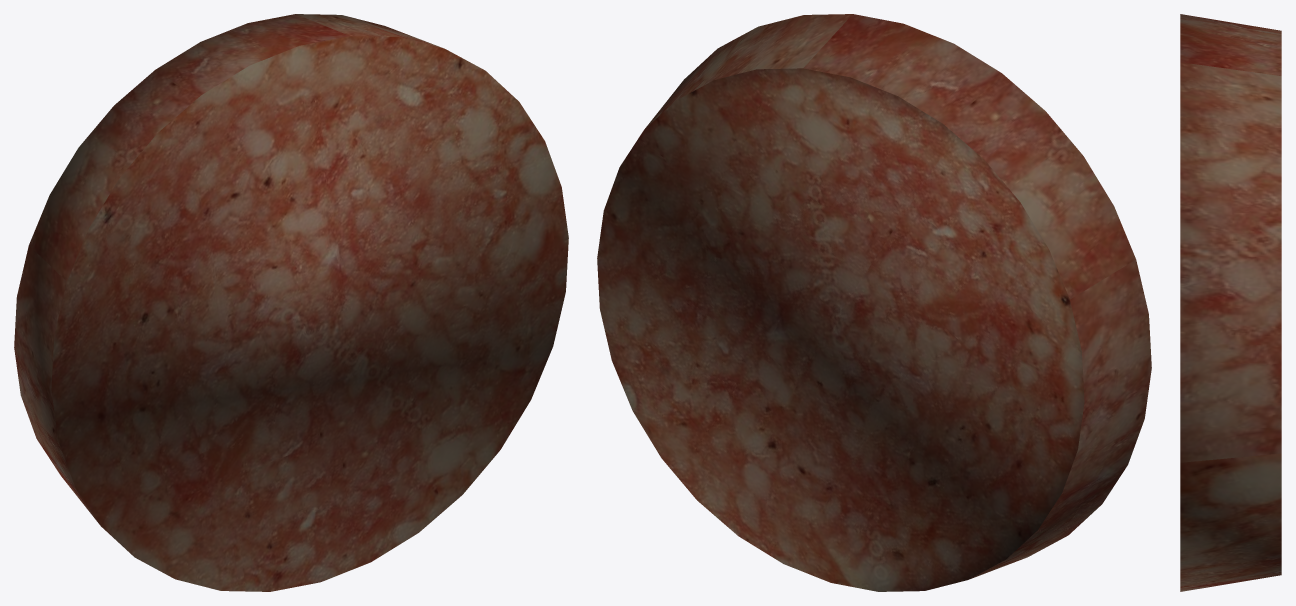
File: salam silim.fbx
3 renders of one model, left to right at view 1: azimuth 30°, elevation 25°; view 2: azimuth 150°, elevation 25°; view 3: azimuth 270°, elevation 25°, orthographic. The views are drawn at different scales.
Visible parts, largest first — view 1: Sphere.002; view 2: Sphere.002; view 3: Sphere.002.
Boxes of the visible parts, left/top/right/bottom form: Sphere.002: left=14, top=14, right=568, bottom=591; Sphere.002: left=597, top=14, right=1151, bottom=591; Sphere.002: left=1180, top=14, right=1281, bottom=591.
Size of the model in its own units: 186 by 186 by 32.51.
1 material, 1 textured.
